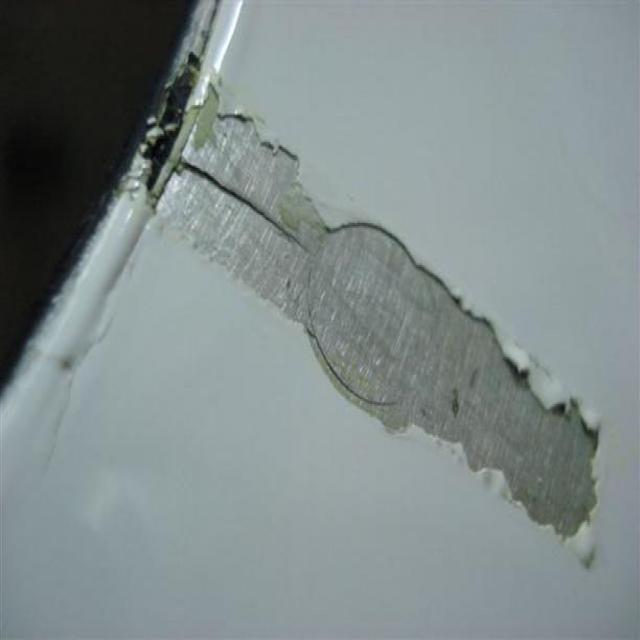crack: (170, 143, 361, 324)
